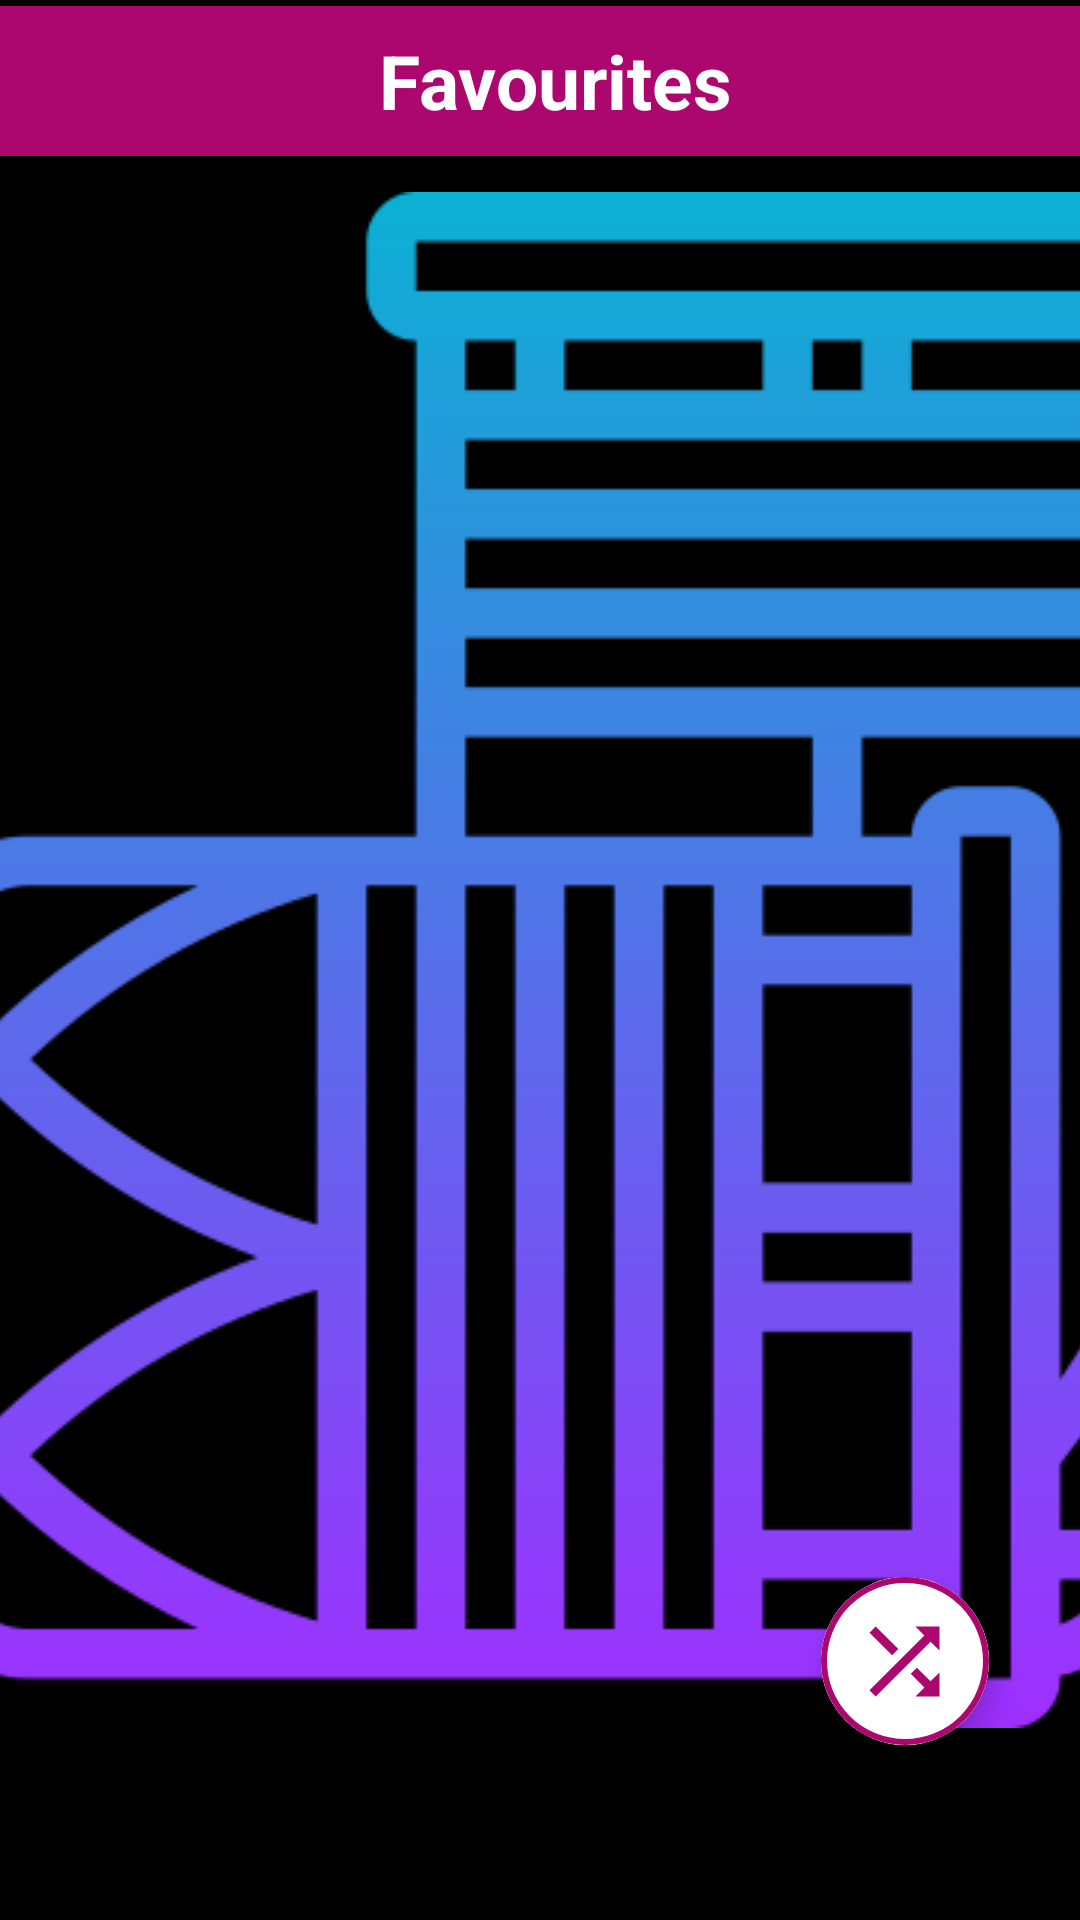

Locate icon controls on the screen. Image size 1080x1920, boxes as {"left": x1, "top": y1, "right": x2, "bottom": y2}.
shuffle: {"left": 821, "top": 1577, "right": 989, "bottom": 1745}
